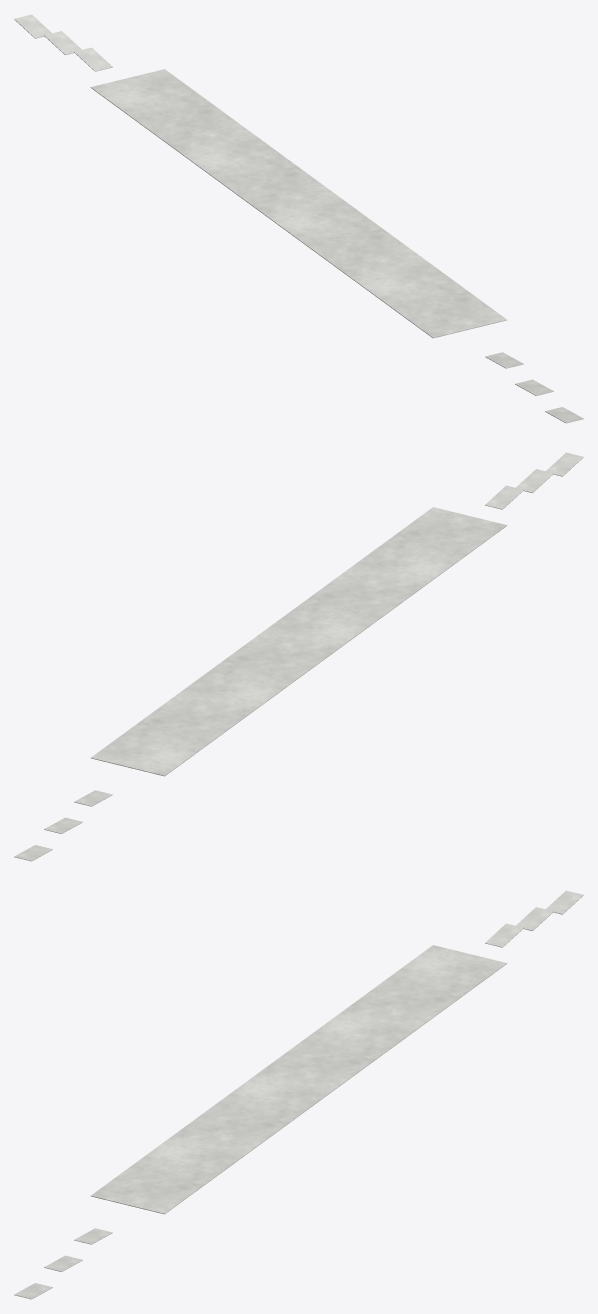
File: PAV-CAL-003_anim.glb
3 views of the same model, one above another, from view 1: azimuth 30°, elevation 25°; view 2: azimuth 150°, elevation 25°; view 3: azimuth 330°, elevation 25° (orthographic).
Visible parts, largest first — view 1: PAV-CAL-003_anim1; view 2: PAV-CAL-003_anim1; view 3: PAV-CAL-003_anim1.
Part boxes in pixels (<box>): PAV-CAL-003_anim1: <box>14,14,583,423</box>; PAV-CAL-003_anim1: <box>14,452,583,861</box>; PAV-CAL-003_anim1: <box>14,890,583,1299</box>.
Size of what is drawn, in the model's own units: 0.0005 by 0.000126 by 0.00645.
1 material, 1 textured.
